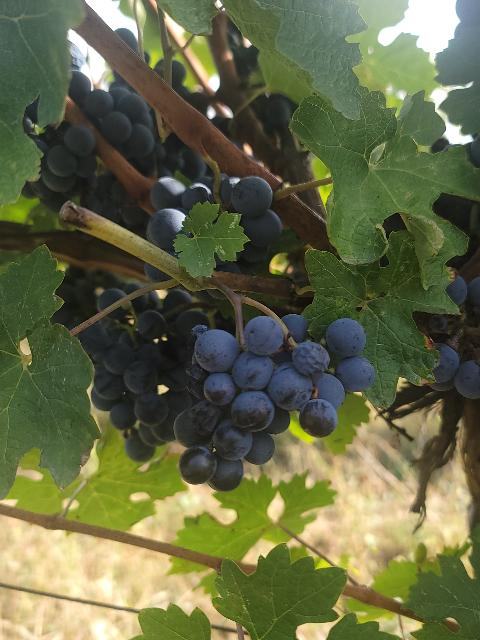grapes: (174, 315, 375, 491), (78, 292, 209, 460), (146, 176, 282, 276), (51, 269, 139, 329)
